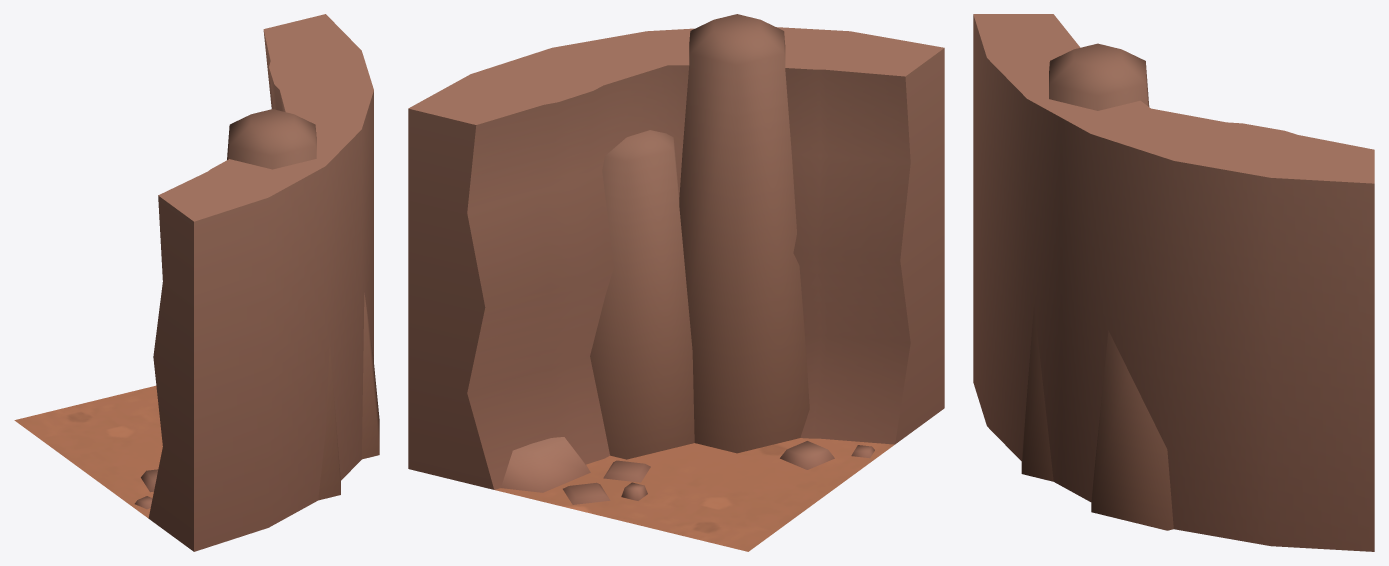
The model's file is template-corner.obj.
The picture shows the model from 3 angles, left to right: view 1: azimuth 30°, elevation 25°; view 2: azimuth 150°, elevation 25°; view 3: azimuth 270°, elevation 25°; orthographic projection. The views are drawn at different scales.
Visible parts, largest first — view 1: template-corner; view 2: template-corner; view 3: template-corner.
Boxes of the visible parts, bbox=[...] form: template-corner: bbox=[14, 14, 379, 551]; template-corner: bbox=[408, 14, 944, 551]; template-corner: bbox=[973, 14, 1374, 551].
Size of the model in its own units: 4 by 4.4 by 4.
Materials: 1 (1 with a texture image).
